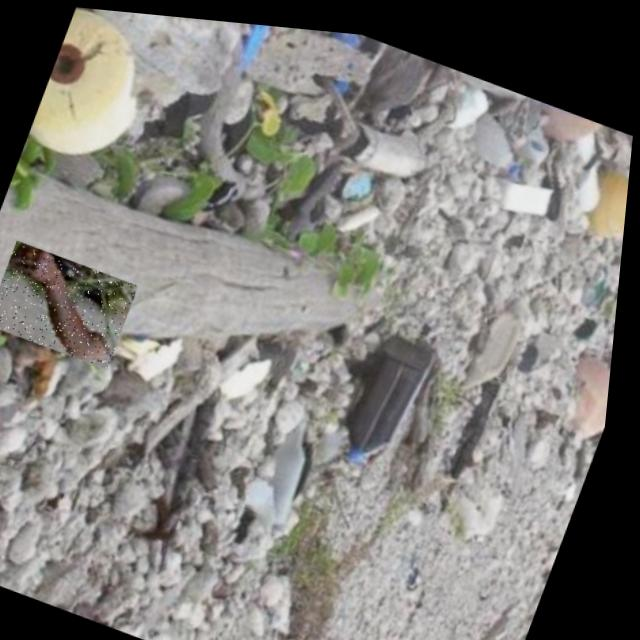Person in Rubble: (0, 238, 145, 368)
